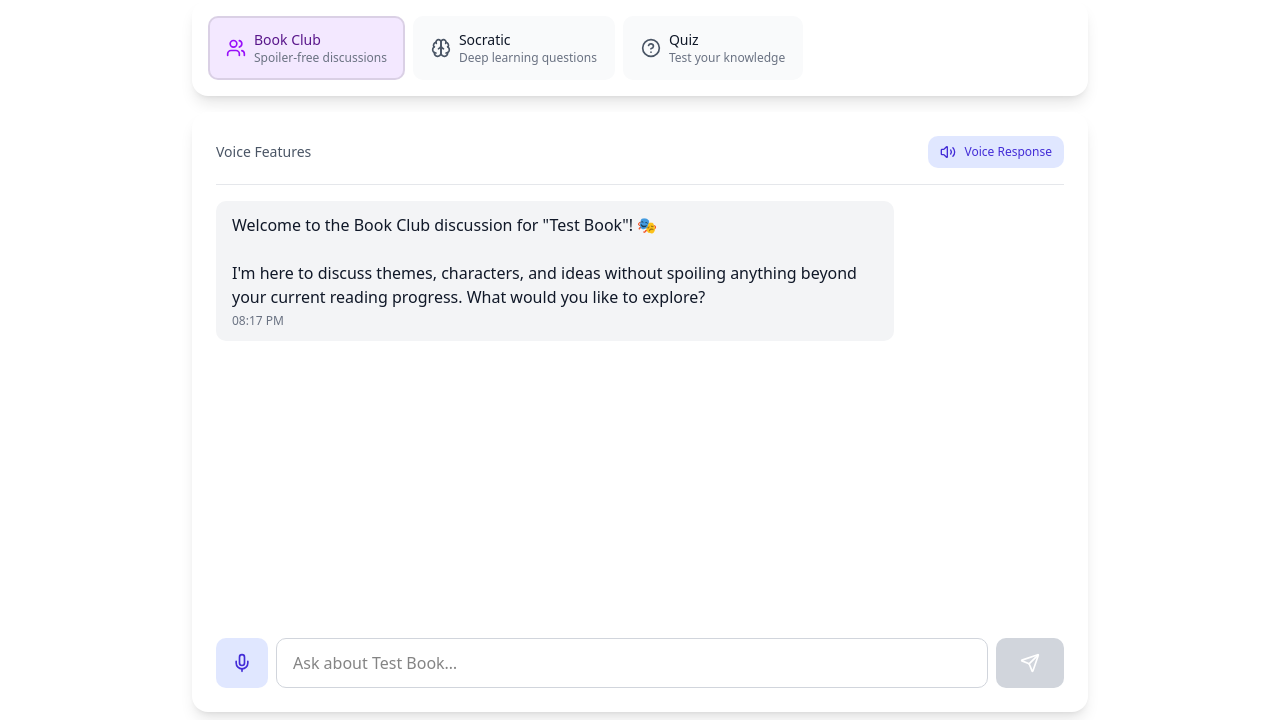
Test: VoiceChatBot (AI companion page) › sends a question with RAG context and shows the AI reply
Type "Who is the hero?" into the field with placeholder "Ask about Test Book…" at [632, 663], box [276,638,988,688]
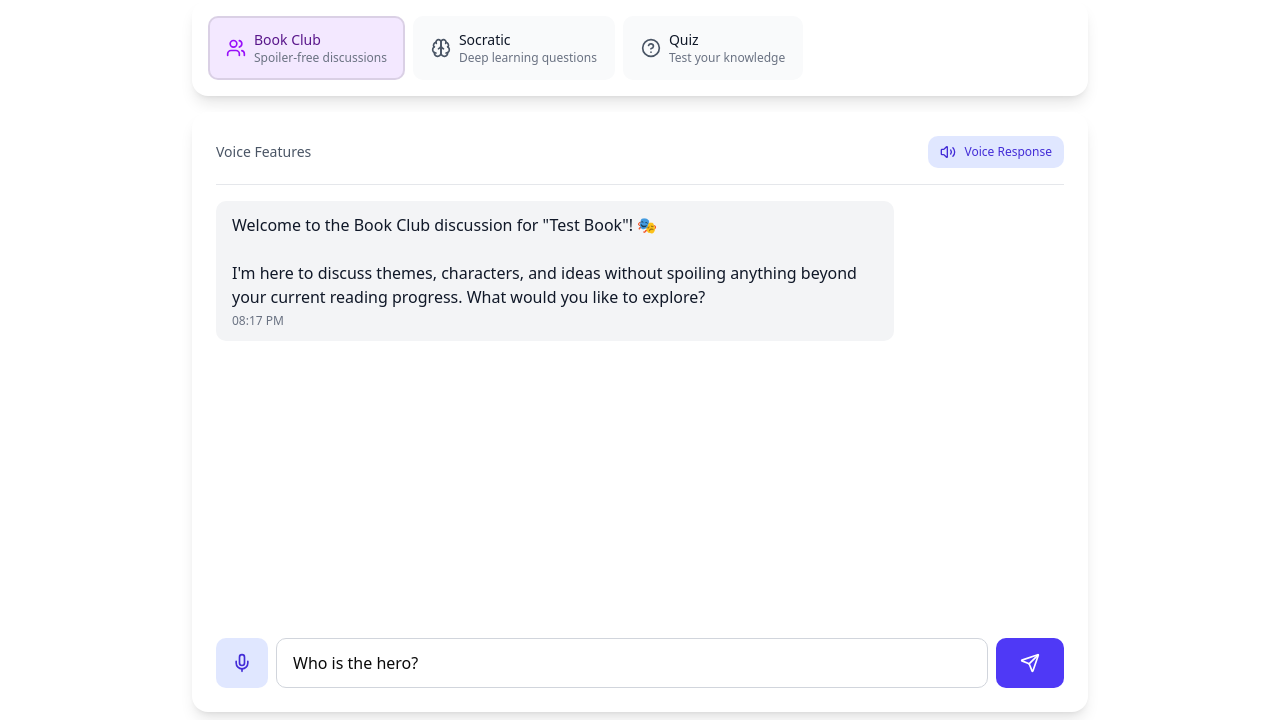
Press Enter in the field with placeholder "Ask about Test Book…", box [276,638,988,688]
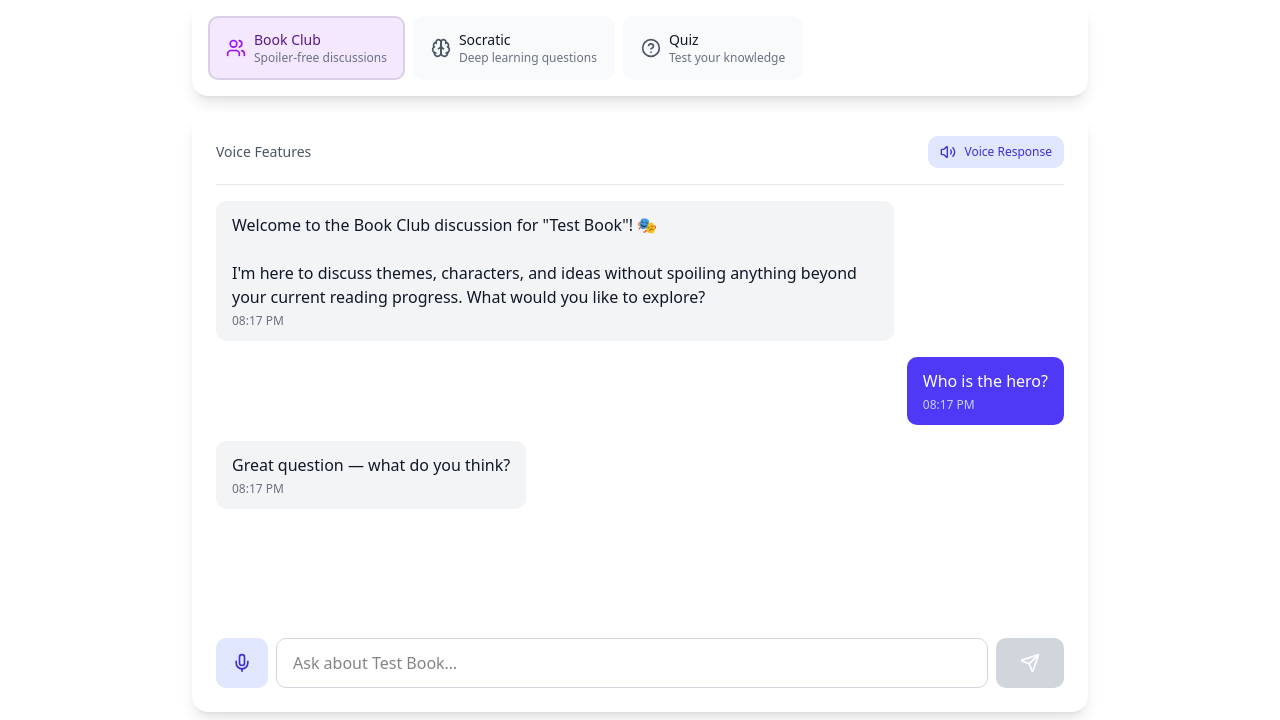
Expected: the text "Great question — what do you think?" is shown, [232,453,510,477]
Expected: the text "Who is the hero?" is shown, [923,369,1048,393]
